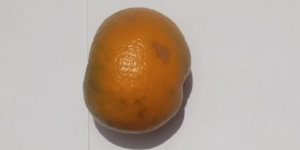BAD: (79, 5, 193, 137)
